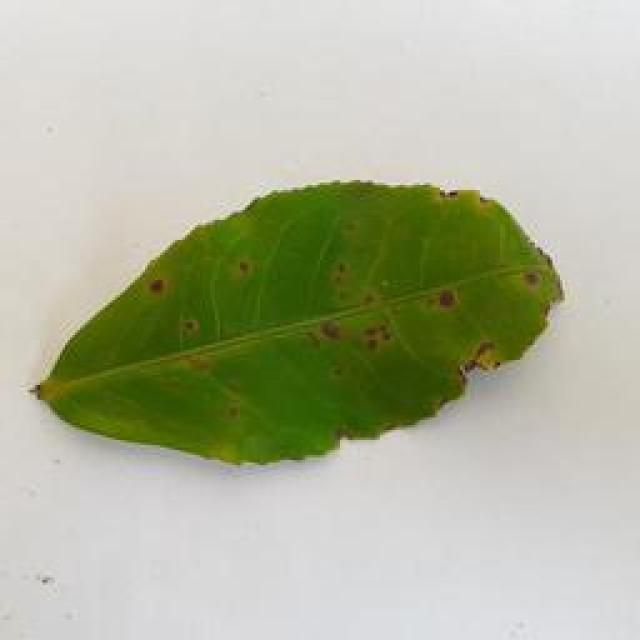Helopeltis: (27, 176, 574, 474)
